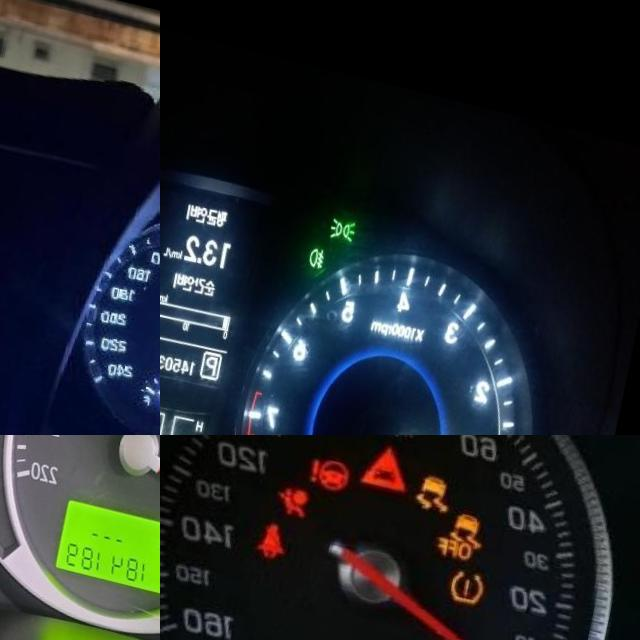FrontFogLight: (316, 230, 334, 254)
SideLamp: (336, 200, 365, 226)
